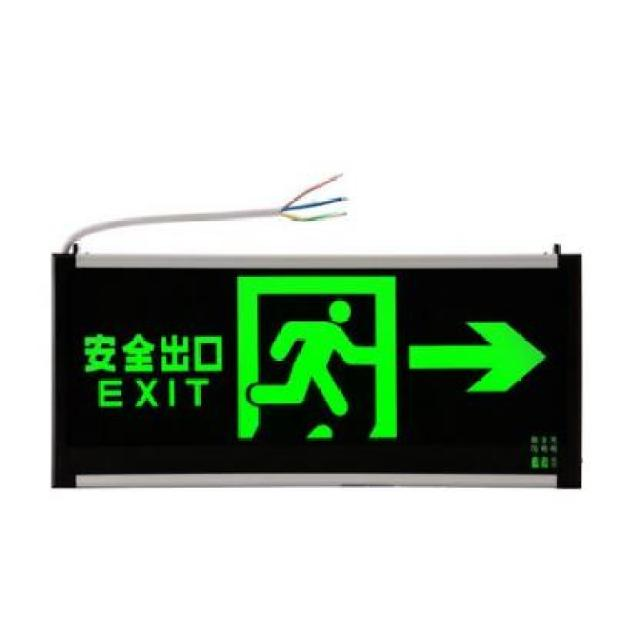exit_sign: (48, 251, 582, 491)
